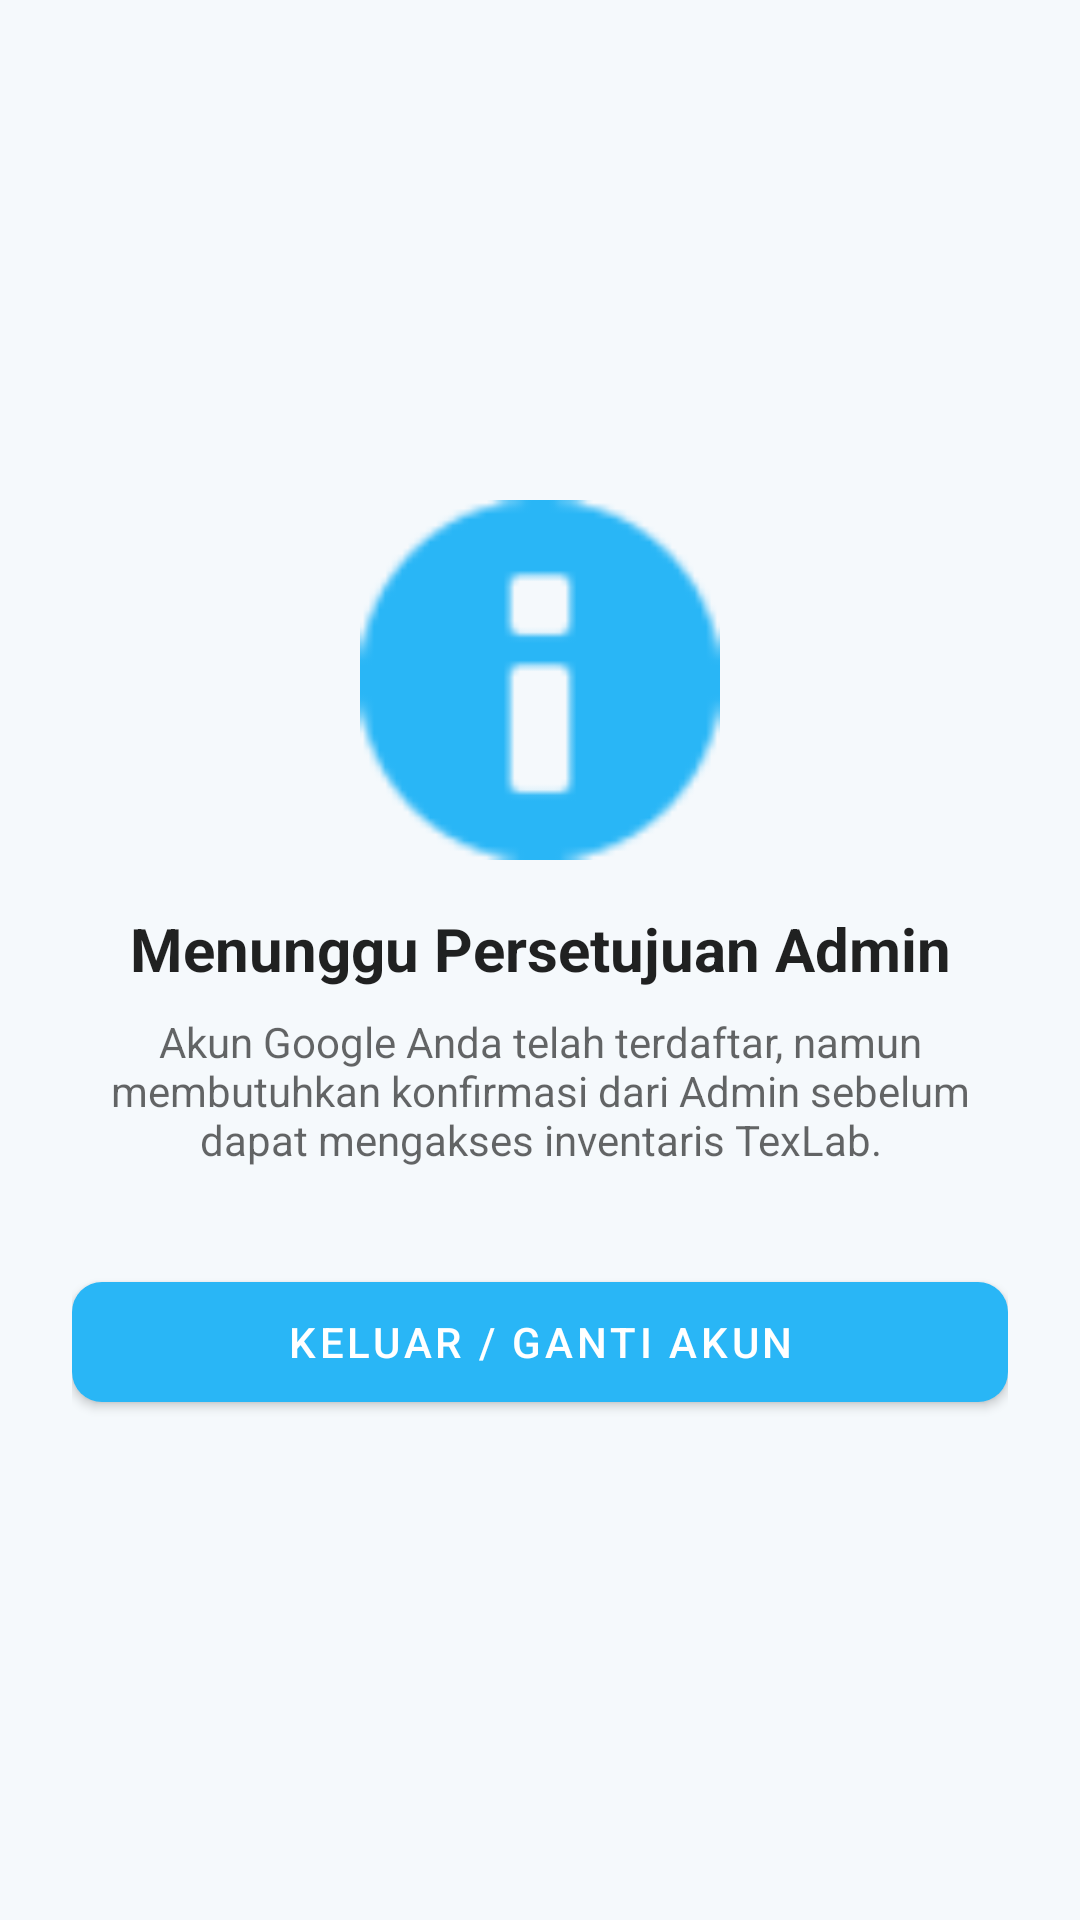

Screen size 1080*1920. Icon name, then its box in pixels as (x1, y1, x2, y2):
info: (360, 500, 720, 860)
